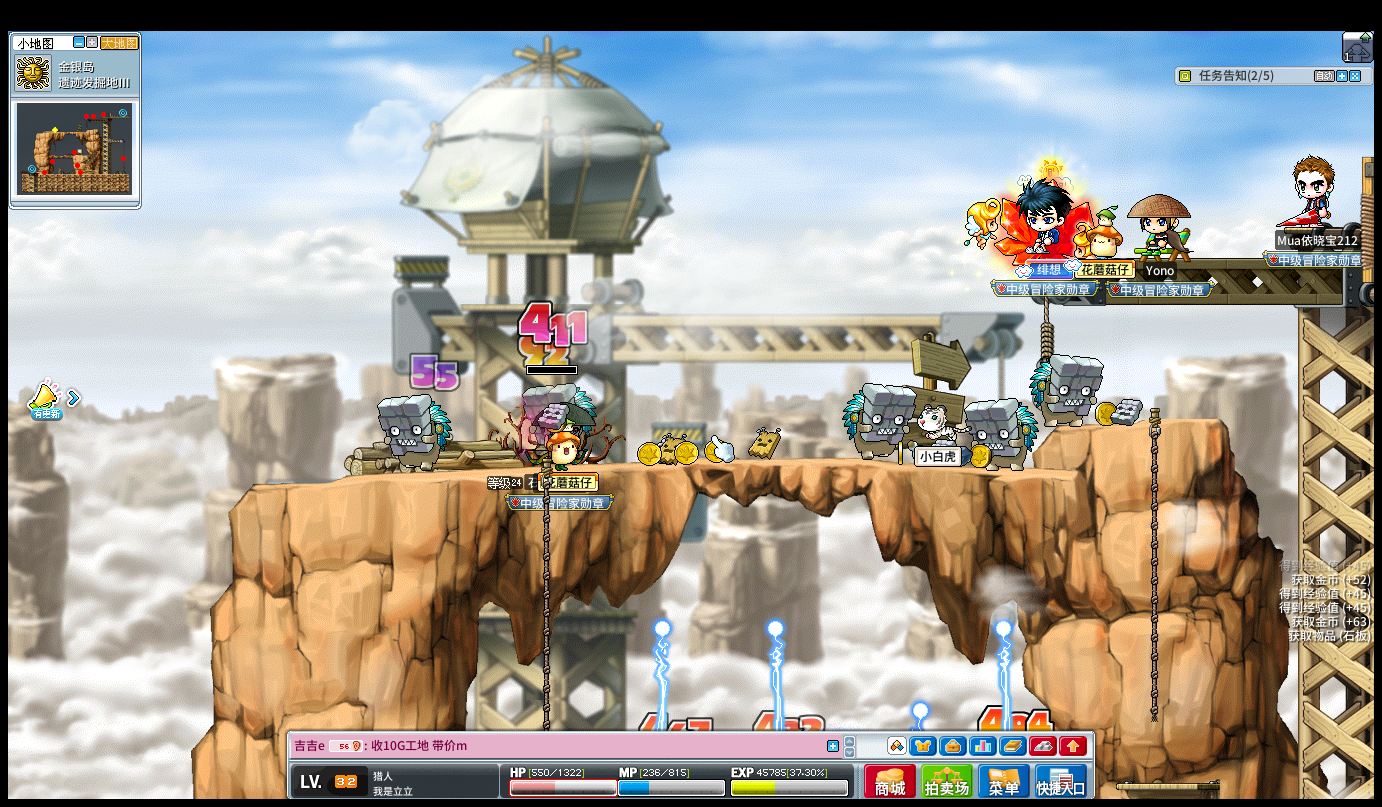floor: (231, 451, 1138, 483), (264, 455, 1096, 478), (1058, 414, 1226, 431), (1058, 418, 1229, 434)
monster: (841, 382, 914, 464), (377, 394, 450, 475), (1030, 353, 1104, 429), (968, 397, 1037, 471), (520, 383, 597, 441)
rope: (1146, 406, 1161, 725), (539, 457, 551, 722), (541, 457, 551, 671)
